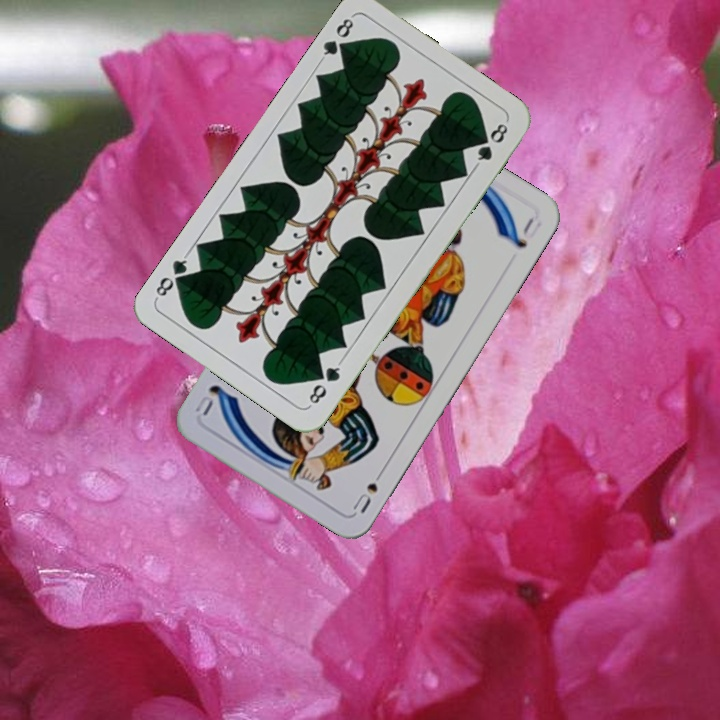G8: (304, 357, 344, 409), (316, 14, 356, 64)
SU: (348, 463, 389, 516)
